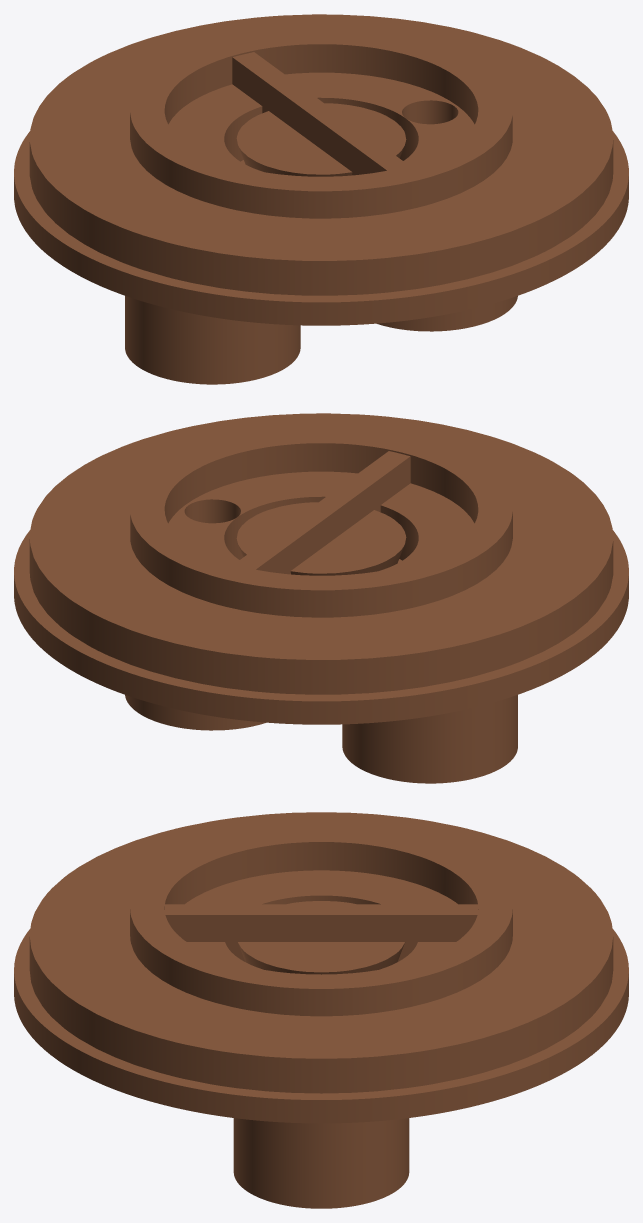
The model's file is mixer_part2_seal_seat.glb.
The picture shows the model from 3 angles, top to bottom: view 1: azimuth 30°, elevation 25°; view 2: azimuth 150°, elevation 25°; view 3: azimuth 270°, elevation 25°; orthographic projection.
Parts seen in each view (by area): view 1: mixer_part2_seal_seat; view 2: mixer_part2_seal_seat; view 3: mixer_part2_seal_seat.
Part boxes in pixels (x1,y1,x2,y2): mixer_part2_seal_seat: (14,14,628,384); mixer_part2_seal_seat: (14,413,628,783); mixer_part2_seal_seat: (14,812,628,1208).
Size of the model in its own units: 0.0196 by 0.0074 by 0.0196.
